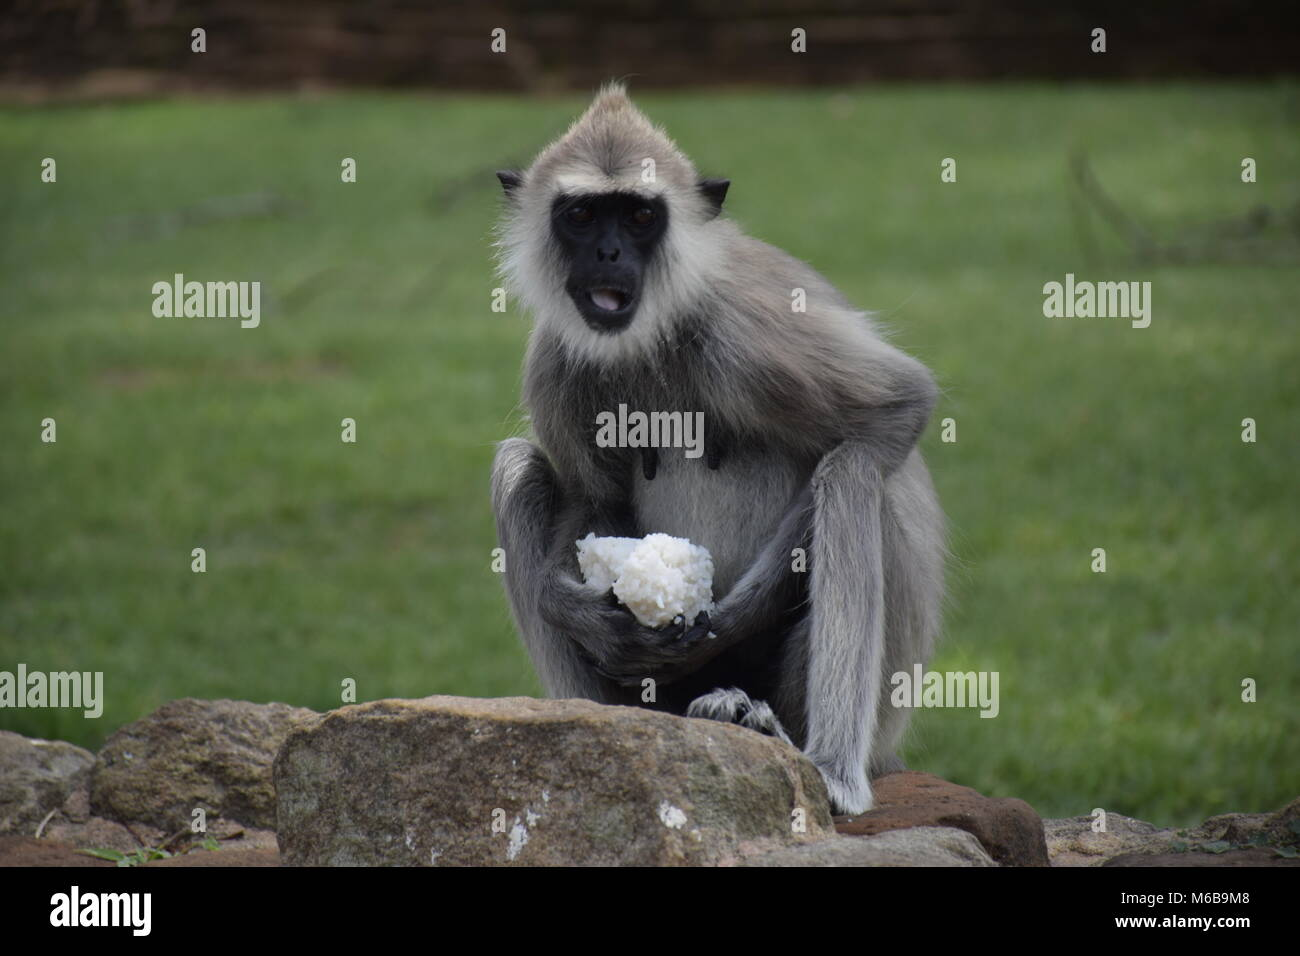Monkey: (477, 46, 970, 770)
